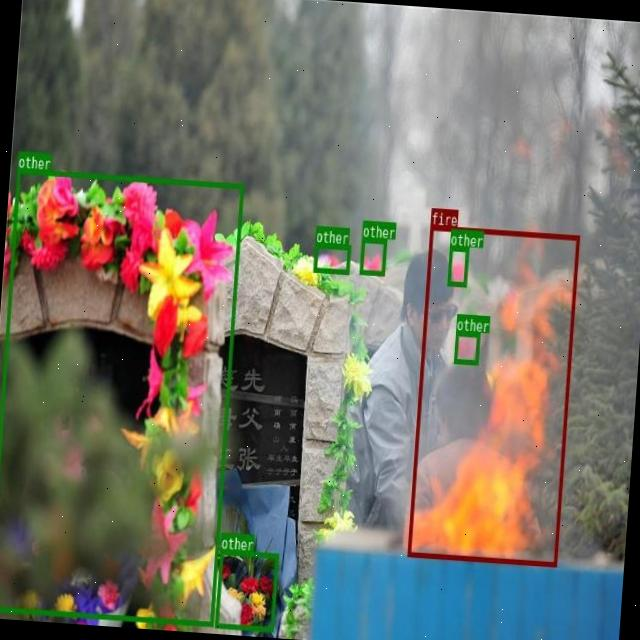fire: (406, 224, 578, 565)
